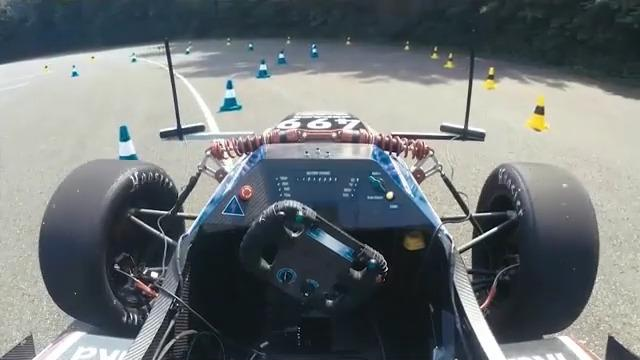blue_cone: (115, 121, 145, 165), (217, 79, 247, 114), (253, 57, 273, 80), (274, 48, 291, 66), (307, 40, 321, 58)
yellow_cone: (526, 101, 554, 135), (485, 63, 499, 93), (429, 40, 442, 62), (341, 32, 356, 50), (400, 35, 412, 49), (448, 53, 457, 69)
